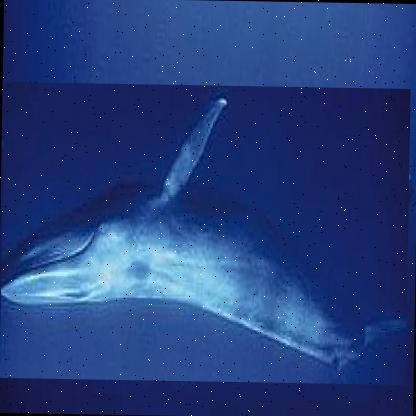blue_whale: (0, 81, 411, 386)
